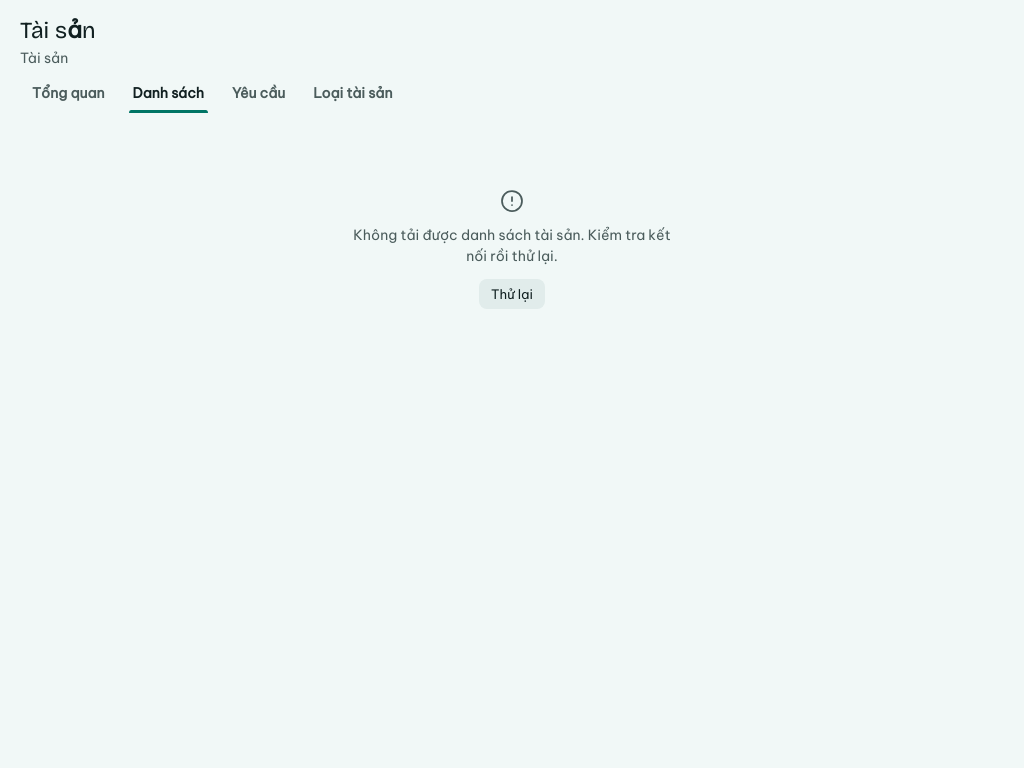
Scenario: AssetsScreen: list › says it cannot load, and retries
expect the text "Không tải được danh sách tài sản" is shown: met, box top-left (353, 226), bottom-right (671, 265)
What coordinates should you click on to do the following:
click the button "Thử lại"
I would click on:
 (512, 294)
Its box is top-left (479, 279), bottom-right (545, 309).
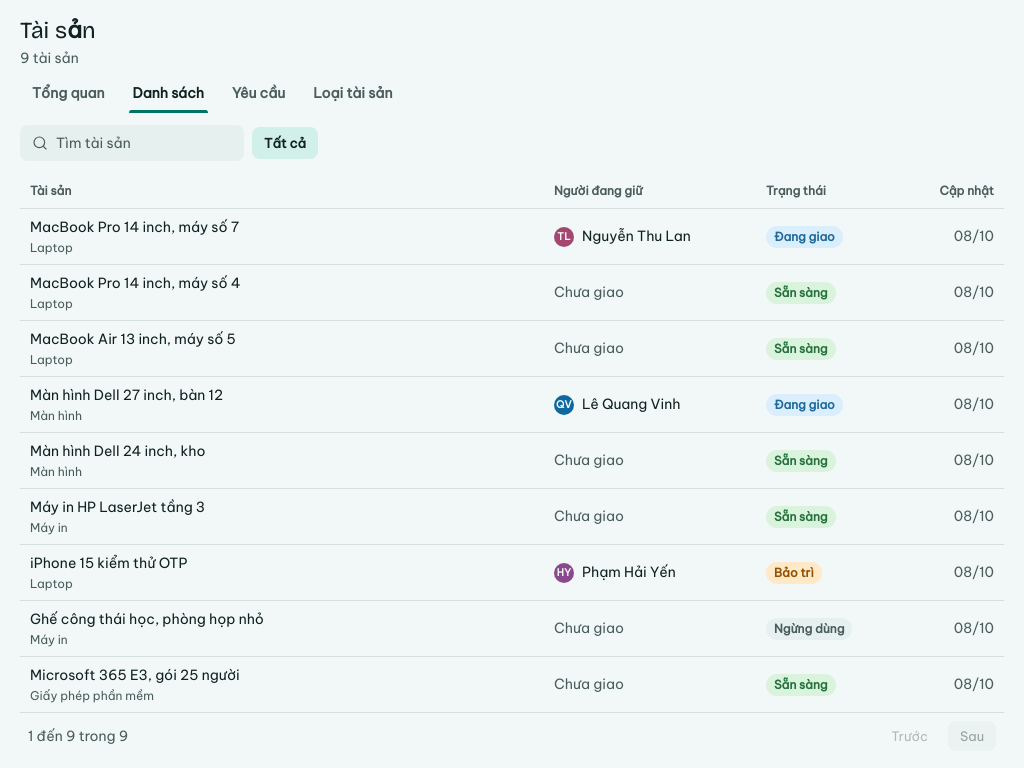
expect the button "MacBook Pro 14 inch, máy số 7" is shown: met, box top-left (30, 217), bottom-right (239, 238)
